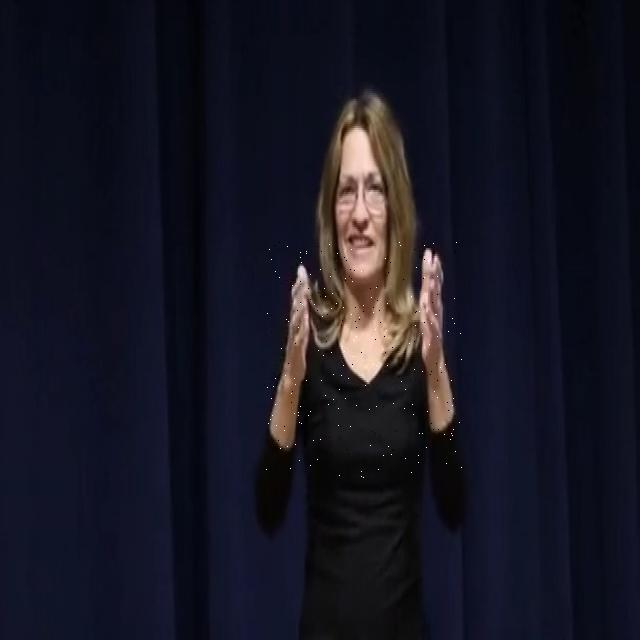manager: (264, 242, 462, 480)
